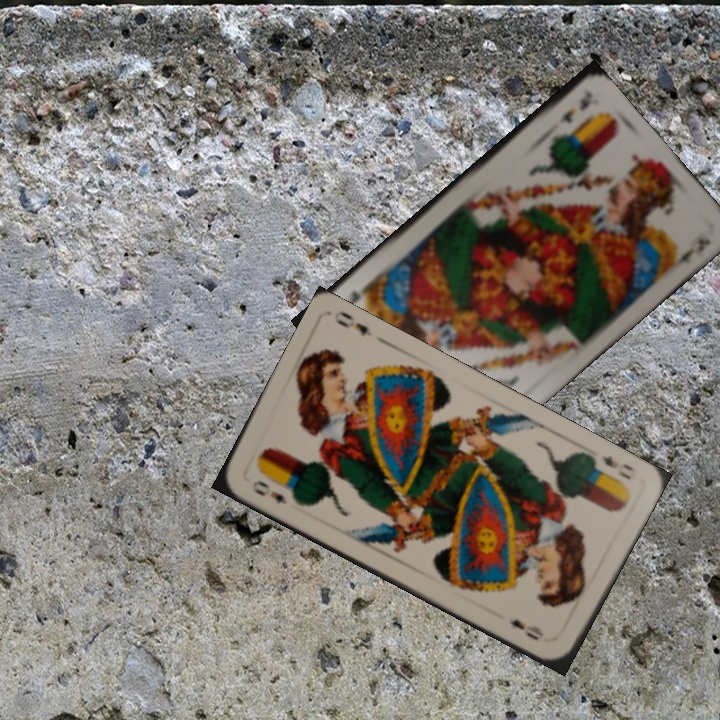EK: (557, 94, 594, 126)
EO: (247, 476, 290, 507), (597, 451, 638, 483)
